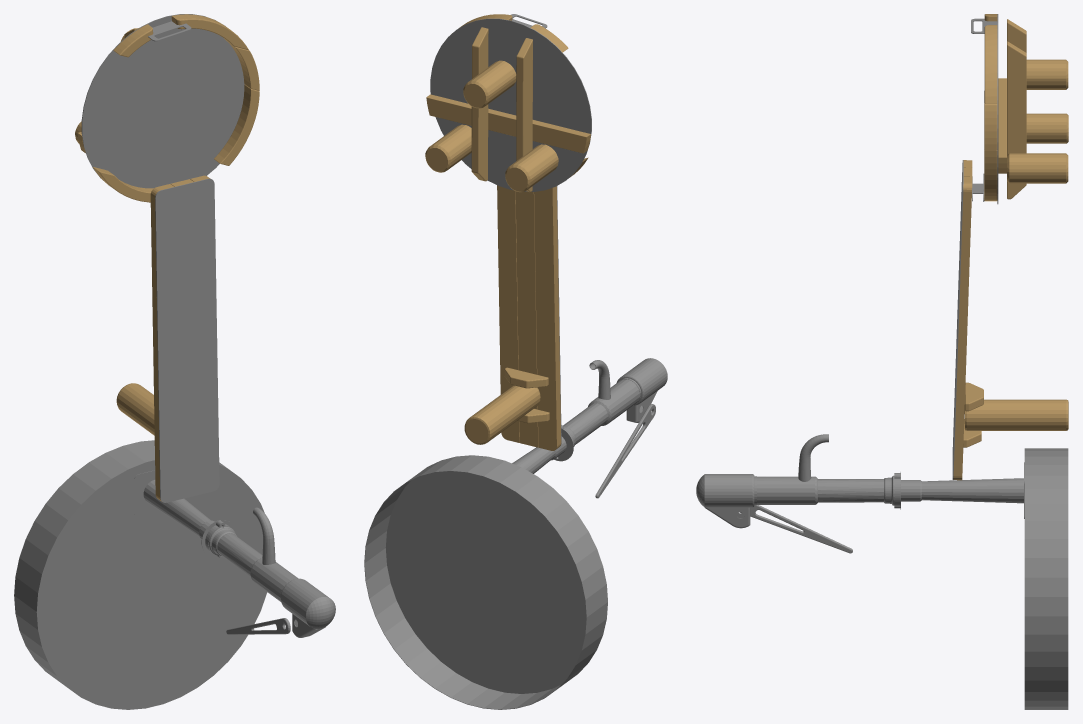
The picture shows the model from 3 angles, left to right: view 1: azimuth 30°, elevation 25°; view 2: azimuth 150°, elevation 25°; view 3: azimuth 270°, elevation 25°; orthographic projection. The views are drawn at different scales.
Parts seen in each view (by area): view 1: Элемент произвольной формы [931979], Элемент произвольной формы [931978]; view 2: Элемент произвольной формы [931979], Элемент произвольной формы [931978]; view 3: Элемент произвольной формы [931979], Элемент произвольной формы [931978].
Boxes of the visible parts, x1=… form: Элемент произвольной формы [931979]: x1=14, y1=14, x2=335, y2=709; Элемент произвольной формы [931978]: x1=75, y1=14, x2=259, y2=501; Элемент произвольной формы [931979]: x1=364, y1=14, x2=667, y2=709; Элемент произвольной формы [931978]: x1=425, y1=14, x2=590, y2=450; Элемент произвольной формы [931979]: x1=696, y1=14, x2=1068, y2=709; Элемент произвольной формы [931978]: x1=953, y1=14, x2=1068, y2=480.
Size of the model in its own units: 1.2 by 3.41 by 1.71.
